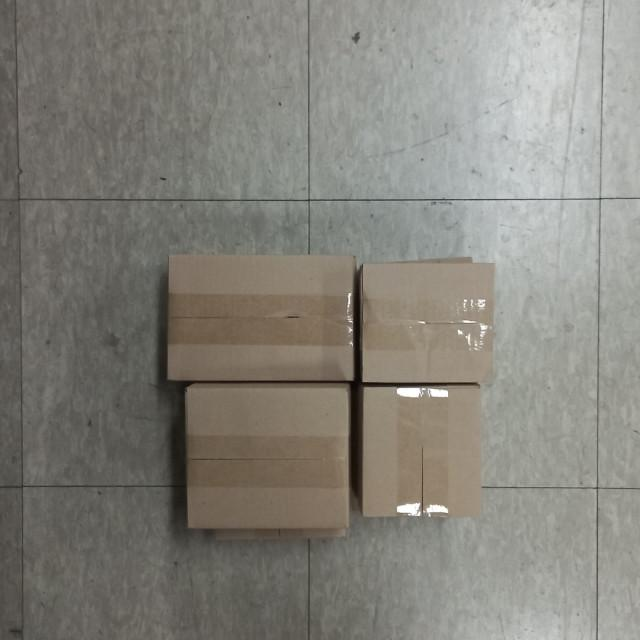box: (160, 246, 359, 385), (178, 383, 356, 534), (356, 257, 500, 386), (357, 382, 487, 522)
